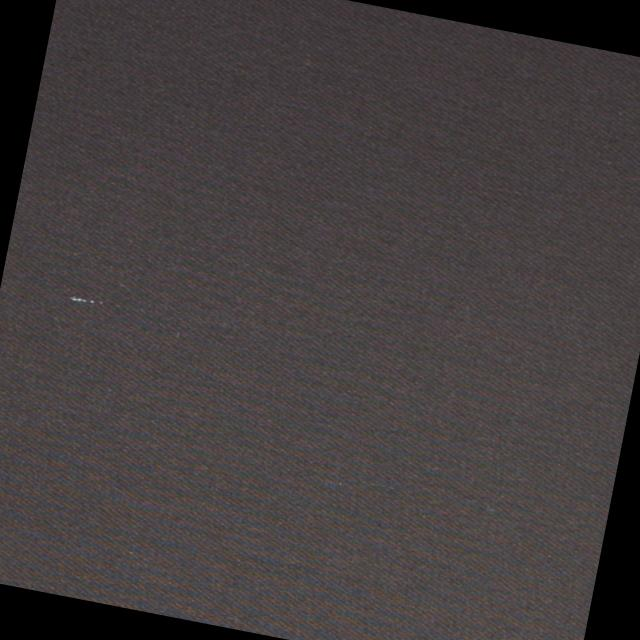Warp_Weft: (66, 293, 106, 307)
